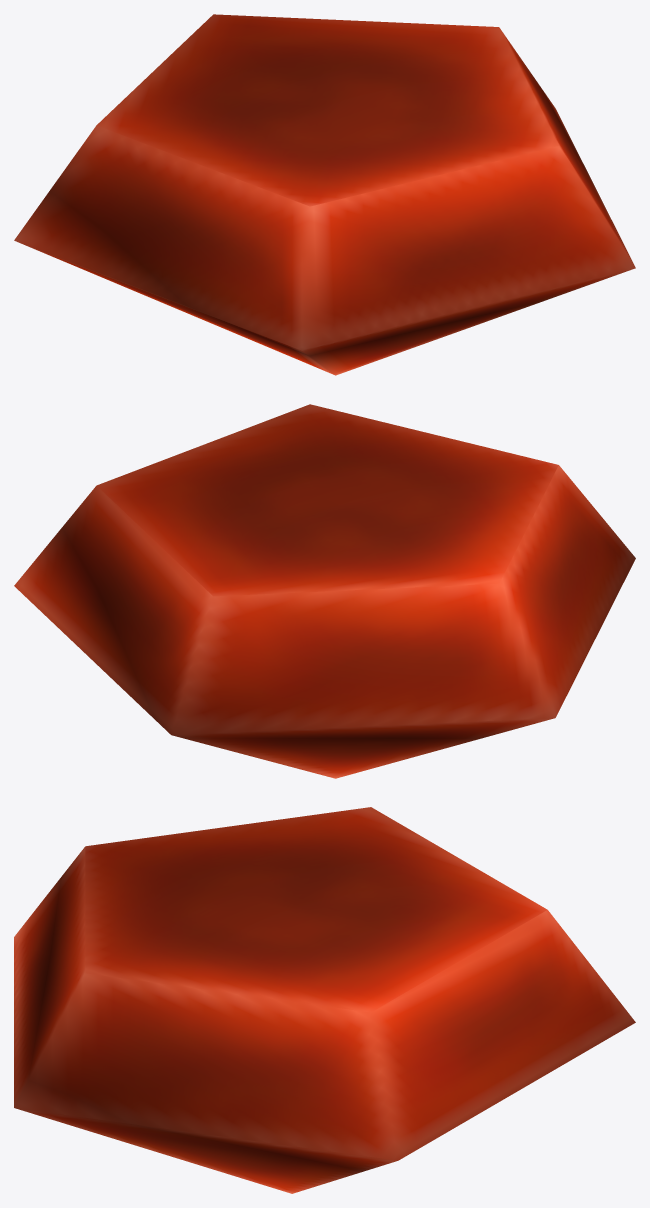
File: Gem_fat.glb
The picture shows the model from 3 angles, top to bottom: view 1: azimuth 30°, elevation 25°; view 2: azimuth 150°, elevation 25°; view 3: azimuth 270°, elevation 25°; orthographic projection. The views are drawn at different scales.
Parts seen in each view (by area): view 1: gem.1; view 2: gem.1; view 3: gem.1.
Boxes of the visible parts, <box> form: gem.1: <box>14,14,635,375</box>; gem.1: <box>14,404,635,778</box>; gem.1: <box>14,807,635,1193</box>.
Size of the model in its own units: 9.17 by 4.4 by 8.72.
1 material, 1 textured.
